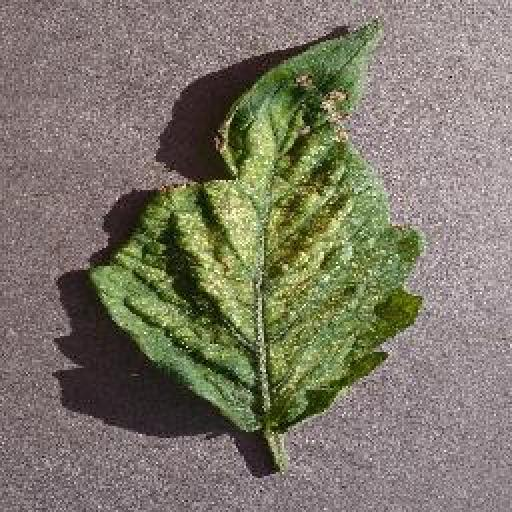disease_tomato: (94, 18, 422, 434)
